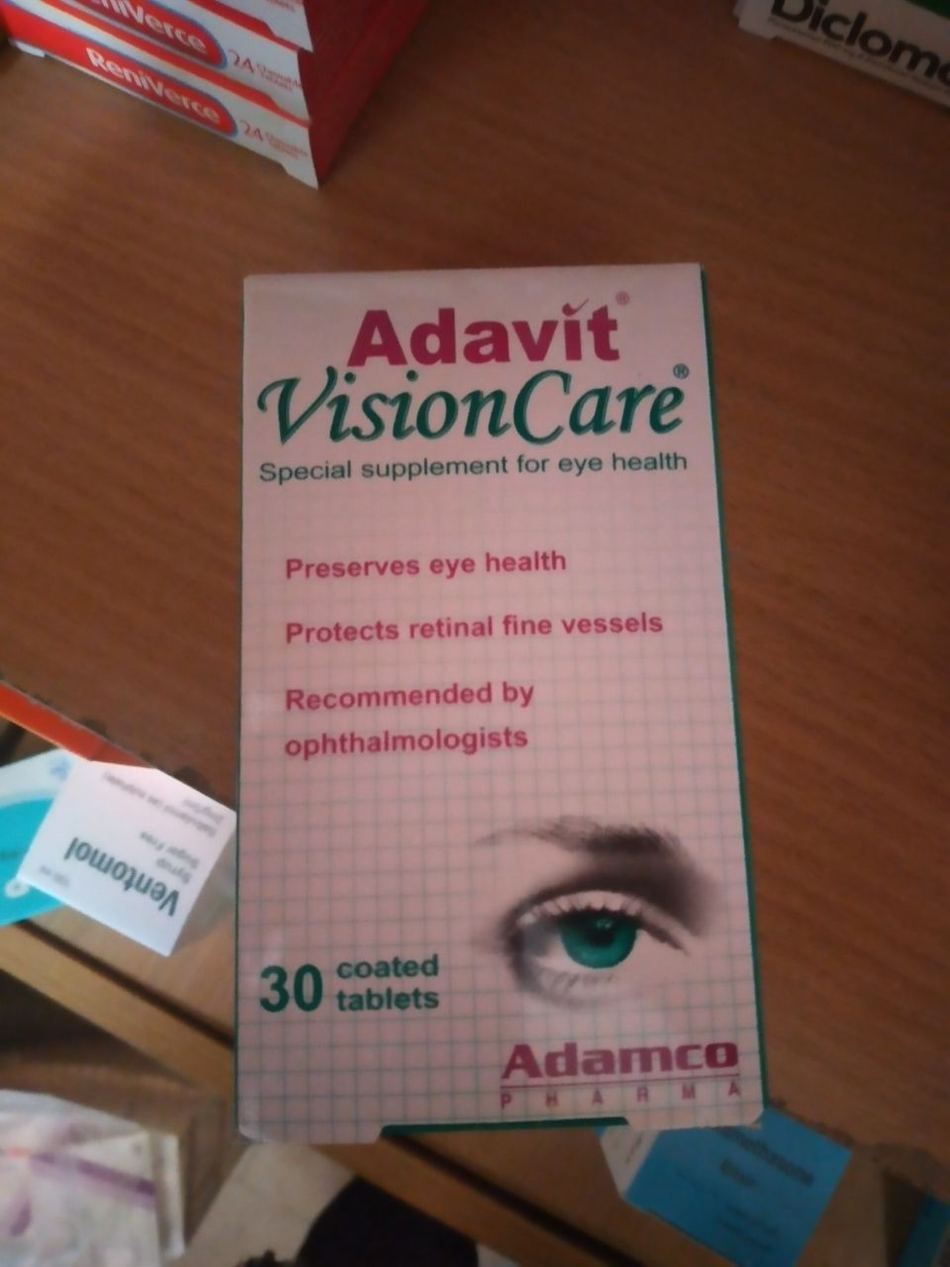Medicine: (228, 261, 772, 1152), (584, 1089, 854, 1267), (20, 752, 218, 970)
